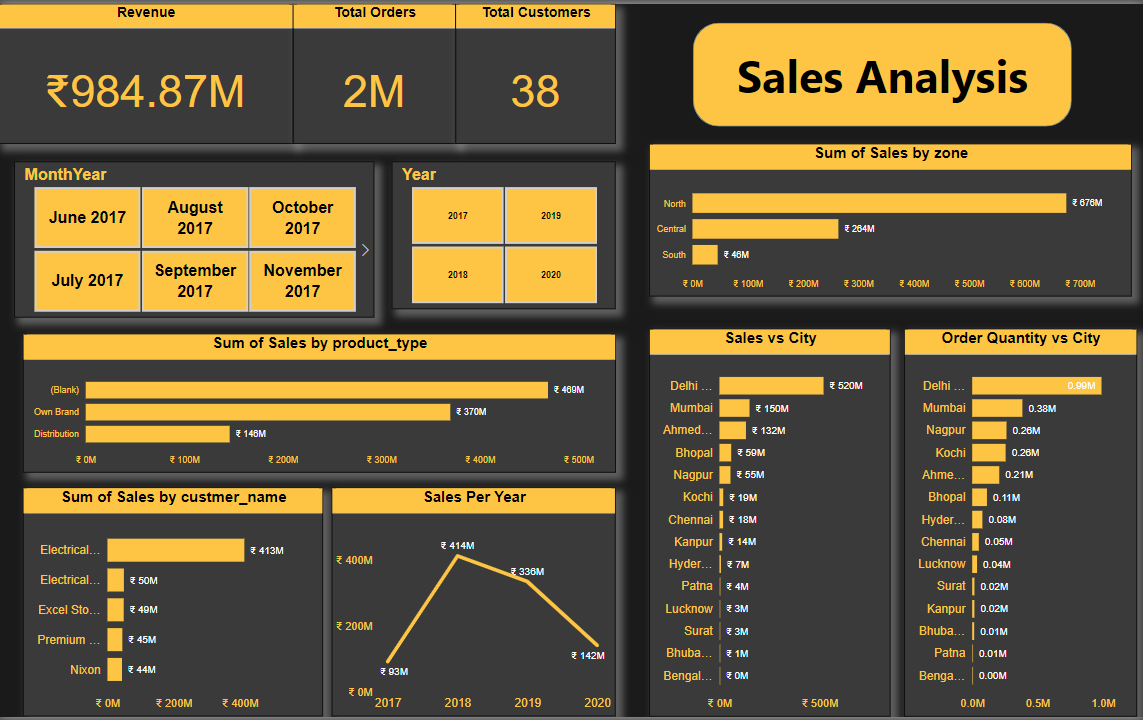

What the dashboard file says about the page in this screenshot:
{"tool":"powerbi","page":{"name":"Page 1","canvas":[1530,950],"ordinal":0},"visuals":[{"type":"card","title":"Revenue","fields":{"Values":["sales customers.Total_Revenue"]},"box":[0,0,393.3,186.7],"z":0},{"type":"card","title":"Total Orders ","fields":{"Values":["sales customers.Total_Quantity"]},"box":[393.3,0,216.7,186.7],"z":1000},{"type":"card","title":"Total Customers ","fields":{"Values":["sales customers.Total_Customers"]},"box":[610,0,213.3,186.7],"z":2000},{"type":"slicer","fields":{"Values":["sales date.Year"]},"box":[525,210,298.3,196.7],"z":3000},{"type":"slicer","fields":{"Values":["sales date.MonthYear"]},"box":[21.7,210,480,208.3],"z":4000},{"type":"barChart","title":"Sales vs City","fields":{"Category":["sales markets.markets_name"],"Y":["Sum(sales transactions.Normalised_currency)"]},"box":[868.3,433.3,321.7,516.7],"z":5000},{"type":"barChart","fields":{"Category":["sales customers.custmer_name"],"Y":["Sum(sales transactions.Sales)"]},"box":[0,645,433.3,296.7],"z":6000},{"type":"barChart","fields":{"Category":["sales products.product_type"],"Y":["Sum(sales transactions.Sales)"]},"box":[33.3,440,790,185],"z":7000},{"type":"barChart","fields":{"Category":["sales markets.zone"],"Y":["Sum(sales transactions.Sales)"]},"box":[868.3,186.7,643.3,203.3],"z":8000},{"type":"barChart","title":"Order Quantity vs City","fields":{"Category":["sales markets.markets_name"],"Y":["Sum(sales transactions.sales_qty)"]},"box":[1208.3,433.3,310,516.7],"z":9000},{"type":"lineChart","title":"Sales Per Year ","fields":{"Y":["Sum(sales transactions.Sales)"],"Category":["sales date.date.Variation.Date Hierarchy.Year","sales date.date.Variation.Date Hierarchy.Quarter","sales date.date.Variation.Date Hierarchy.Month","sales date.date.Variation.Date Hierarchy.Day"]},"box":[445,645,378.3,305],"z":10000},{"type":"shape","box":[926.7,25,505,138.3],"z":10001}]}

Visuals, with their boxes in screenshot pixels (x1, y1, x2, y2), scaled from the page's 1530x950 canvas onto the 1143x720 screenshot:
"Revenue" card: <box>0,0,294,141</box>
"Total Orders " card: <box>294,0,456,141</box>
"Total Customers " card: <box>456,0,615,141</box>
slicer - sales date.Year: <box>392,159,615,308</box>
slicer - sales date.MonthYear: <box>16,159,375,317</box>
"Sales vs City" barChart: <box>649,328,889,719</box>
barChart - sales customers.custmer_name x Sum(sales transactions.Sales): <box>0,489,324,714</box>
barChart - sales products.product_type x Sum(sales transactions.Sales): <box>25,333,615,474</box>
barChart - sales markets.zone x Sum(sales transactions.Sales): <box>649,141,1129,296</box>
"Order Quantity vs City" barChart: <box>903,328,1134,719</box>
"Sales Per Year " lineChart: <box>332,489,615,719</box>
shape: <box>692,19,1070,124</box>
